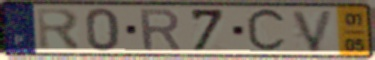0: (83, 6, 121, 53)
7: (189, 7, 227, 53)
C: (244, 6, 289, 55)
R: (35, 6, 84, 52), (137, 7, 184, 53)
V: (290, 9, 337, 54)
